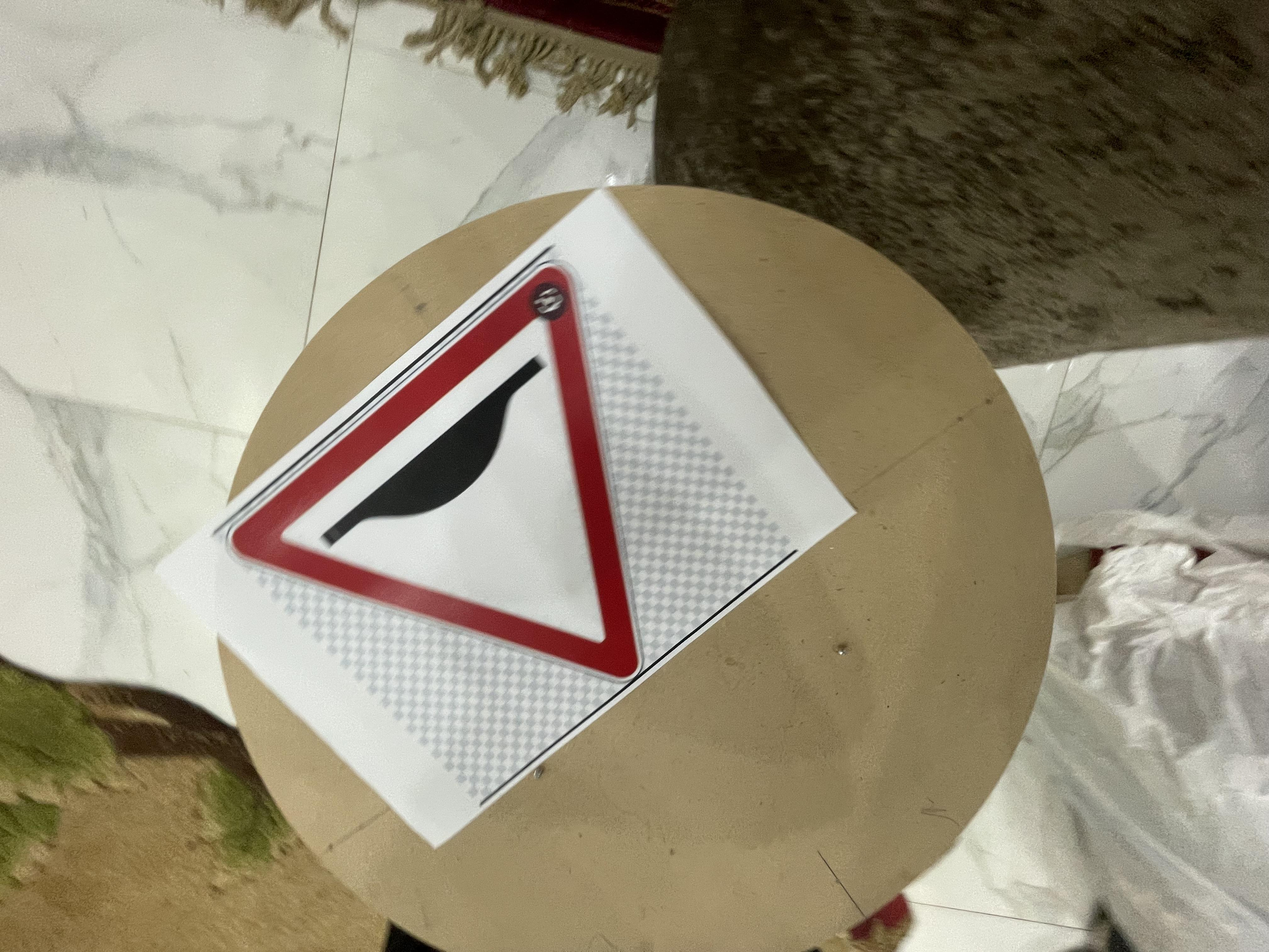Hump: (230, 263, 636, 686)
